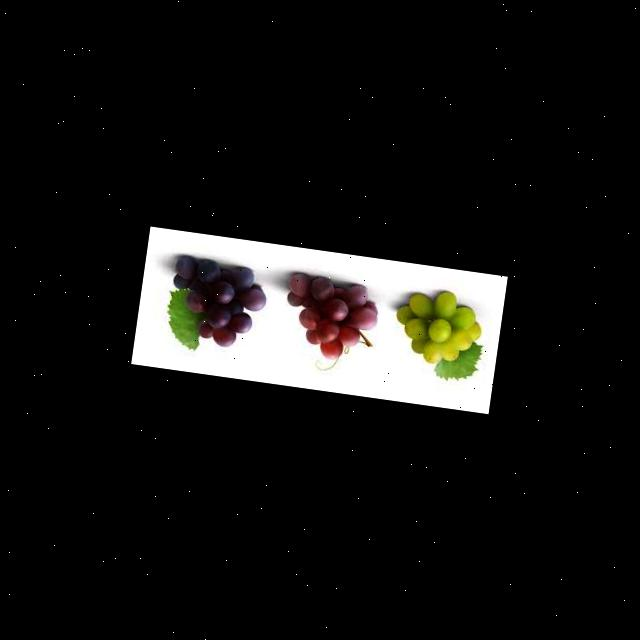grape: (165, 255, 272, 352), (390, 286, 486, 370)
